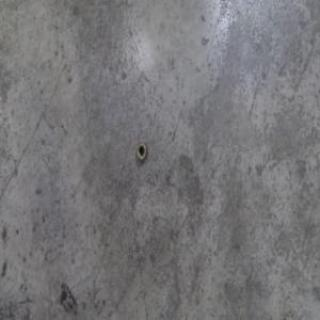Nuttrack_idkeyframe: (135, 140, 147, 162)
